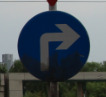right_turn: (17, 10, 90, 81)
